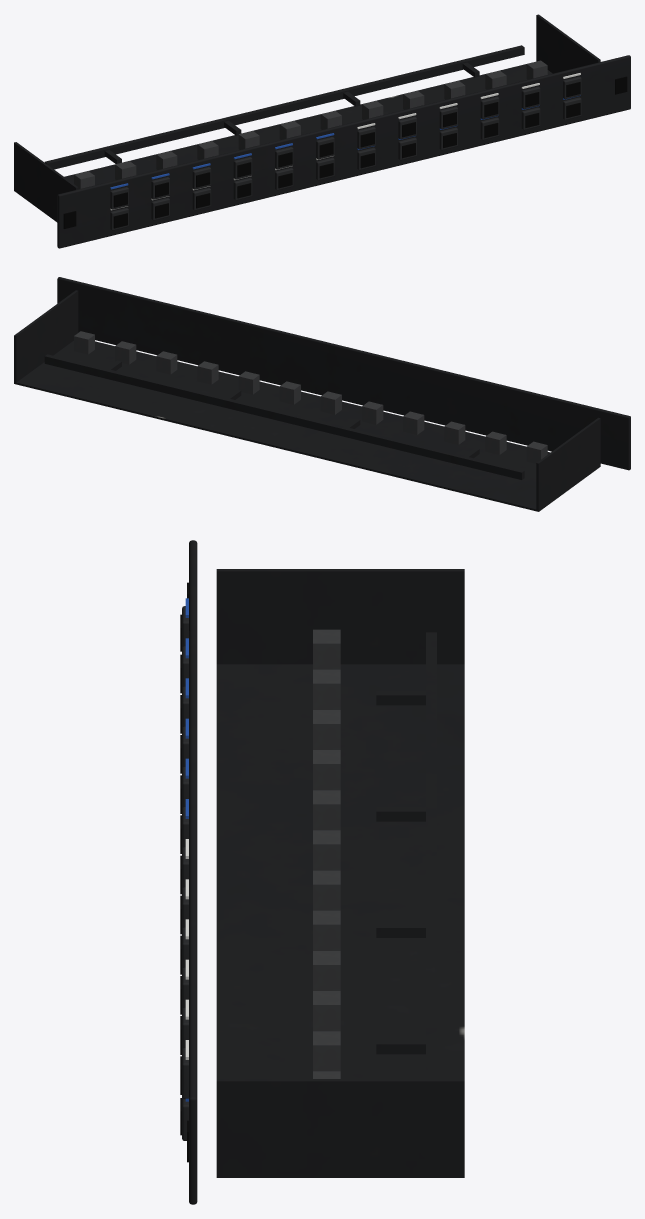
File: network-patch-panel.glb
The picture shows the model from 3 angles, top to bottom: view 1: azimuth 30°, elevation 25°; view 2: azimuth 150°, elevation 25°; view 3: azimuth 270°, elevation 25°; orthographic projection. The views are drawn at different scales.
Visible parts, largest first — view 1: network-patch-panel; view 2: network-patch-panel; view 3: network-patch-panel.
Part boxes in pixels (bbox=[...]): network-patch-panel: bbox=[14, 14, 630, 248]; network-patch-panel: bbox=[14, 277, 630, 511]; network-patch-panel: bbox=[180, 540, 464, 1204].
Bounding box in the file's own units: 0.48 × 0.043 × 0.1031.
7 materials, 7 textured.
